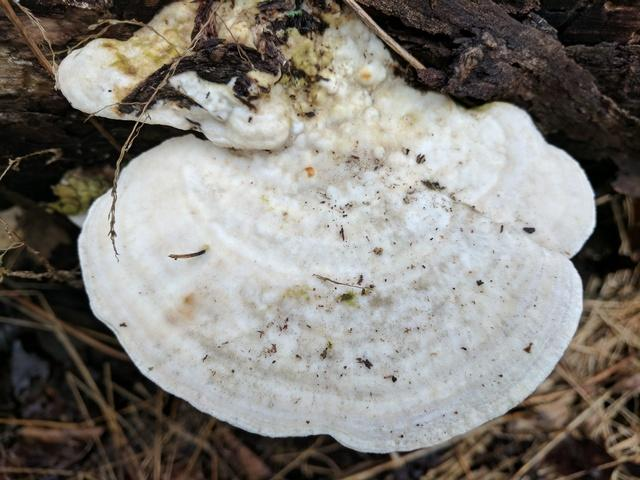Non-edible Mushroom: (58, 1, 598, 454)
